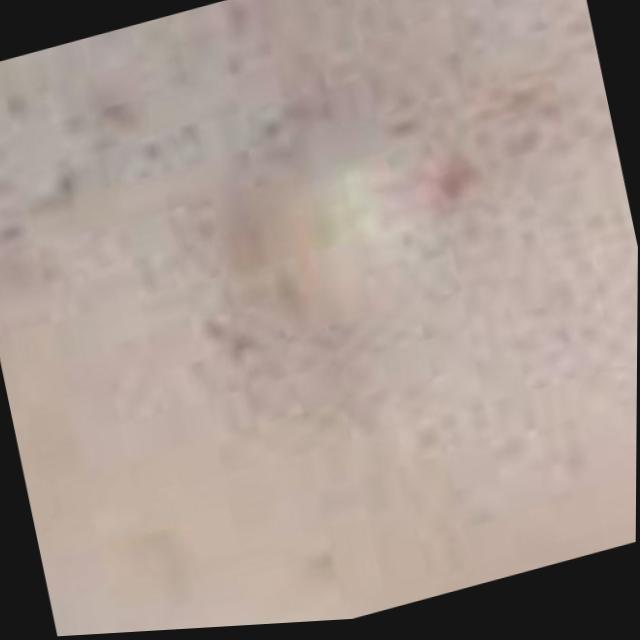nodule: (186, 86, 484, 423)
